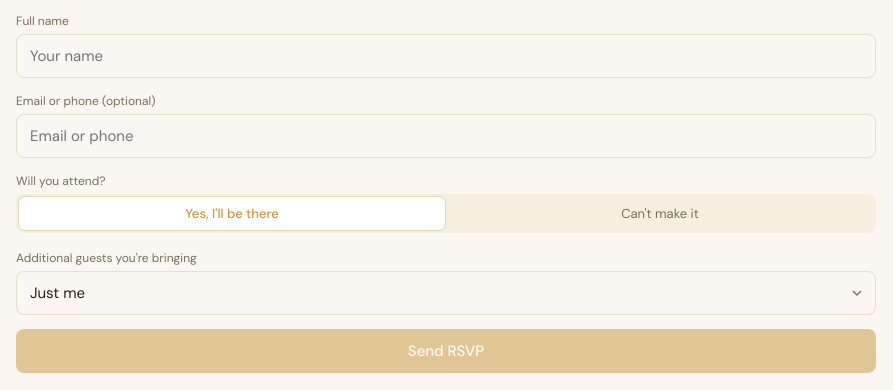
RsvpForm › submits name, contact, attending, and guest count
In the field labelled "Full name": (446, 56) 16,34 -> 876,78, type "Aunt May"
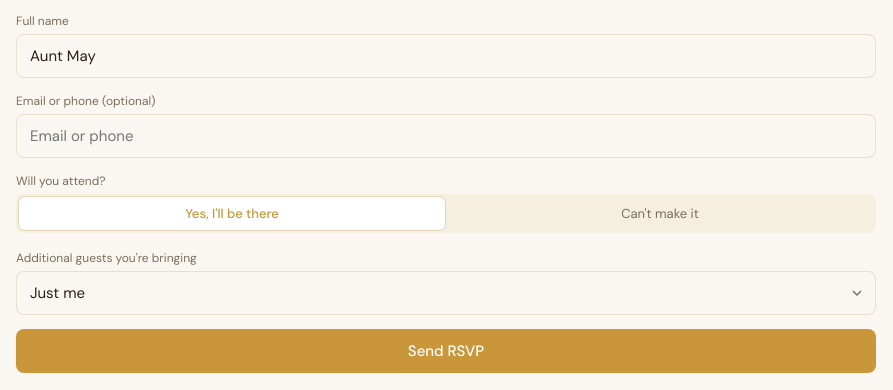
In the field labelled "Email or phone (optional)": (446, 136) 16,114 -> 876,158, type "555-1234"
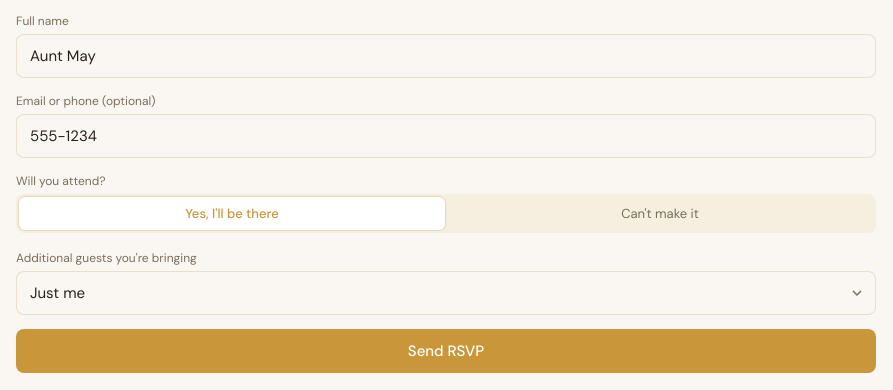
Select "+2 guests" in the dropdown labelled "Additional guests you're bringing": (446, 293) 16,271 -> 876,315
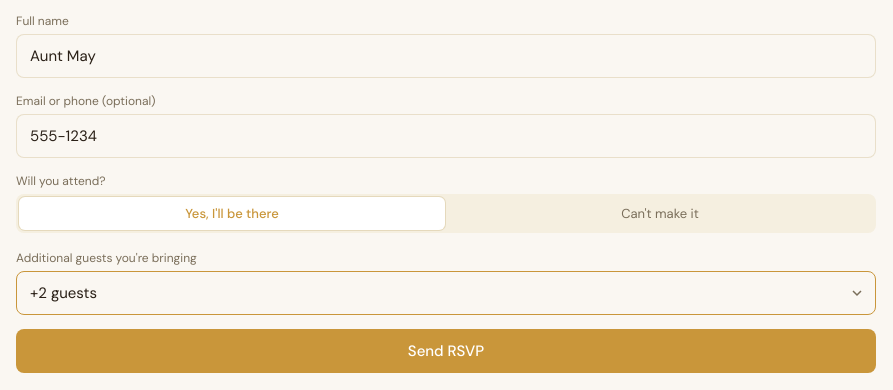
Click the button "Send RSVP": (446, 351) 16,329 -> 876,373
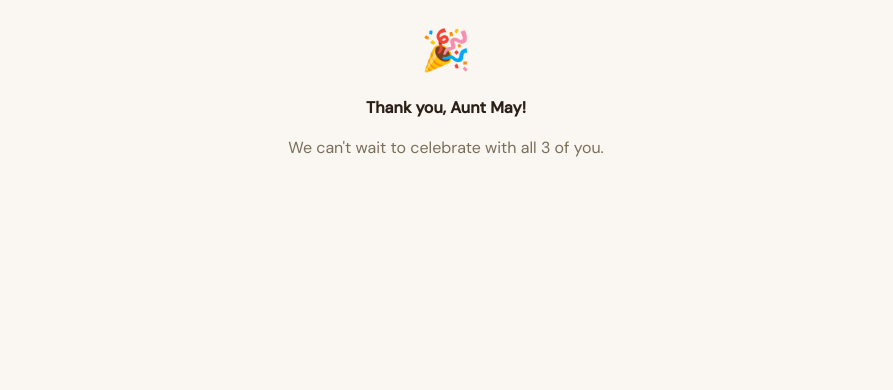
Check: the text "Thank you, Aunt May!" is shown, box 366,97 -> 526,118
